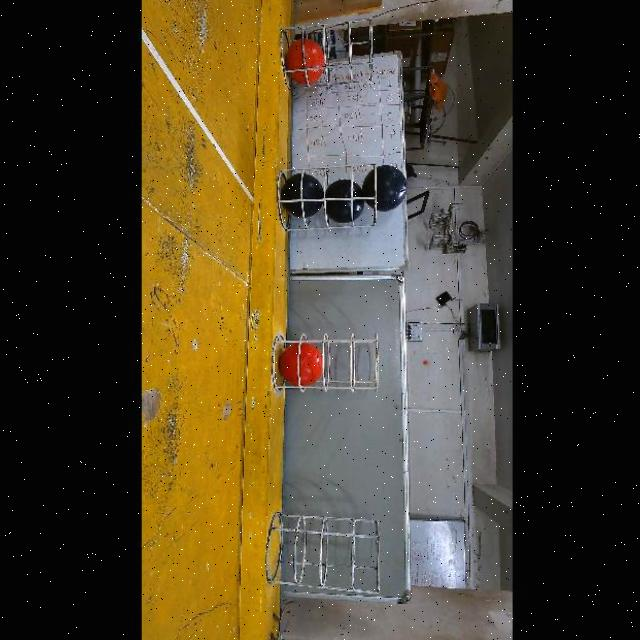P: (361, 166, 406, 212), (279, 172, 323, 217), (324, 179, 363, 224)
R: (278, 342, 321, 386), (283, 39, 323, 86)
S: (270, 510, 382, 590), (271, 330, 379, 400), (274, 167, 376, 226), (280, 22, 372, 82)
